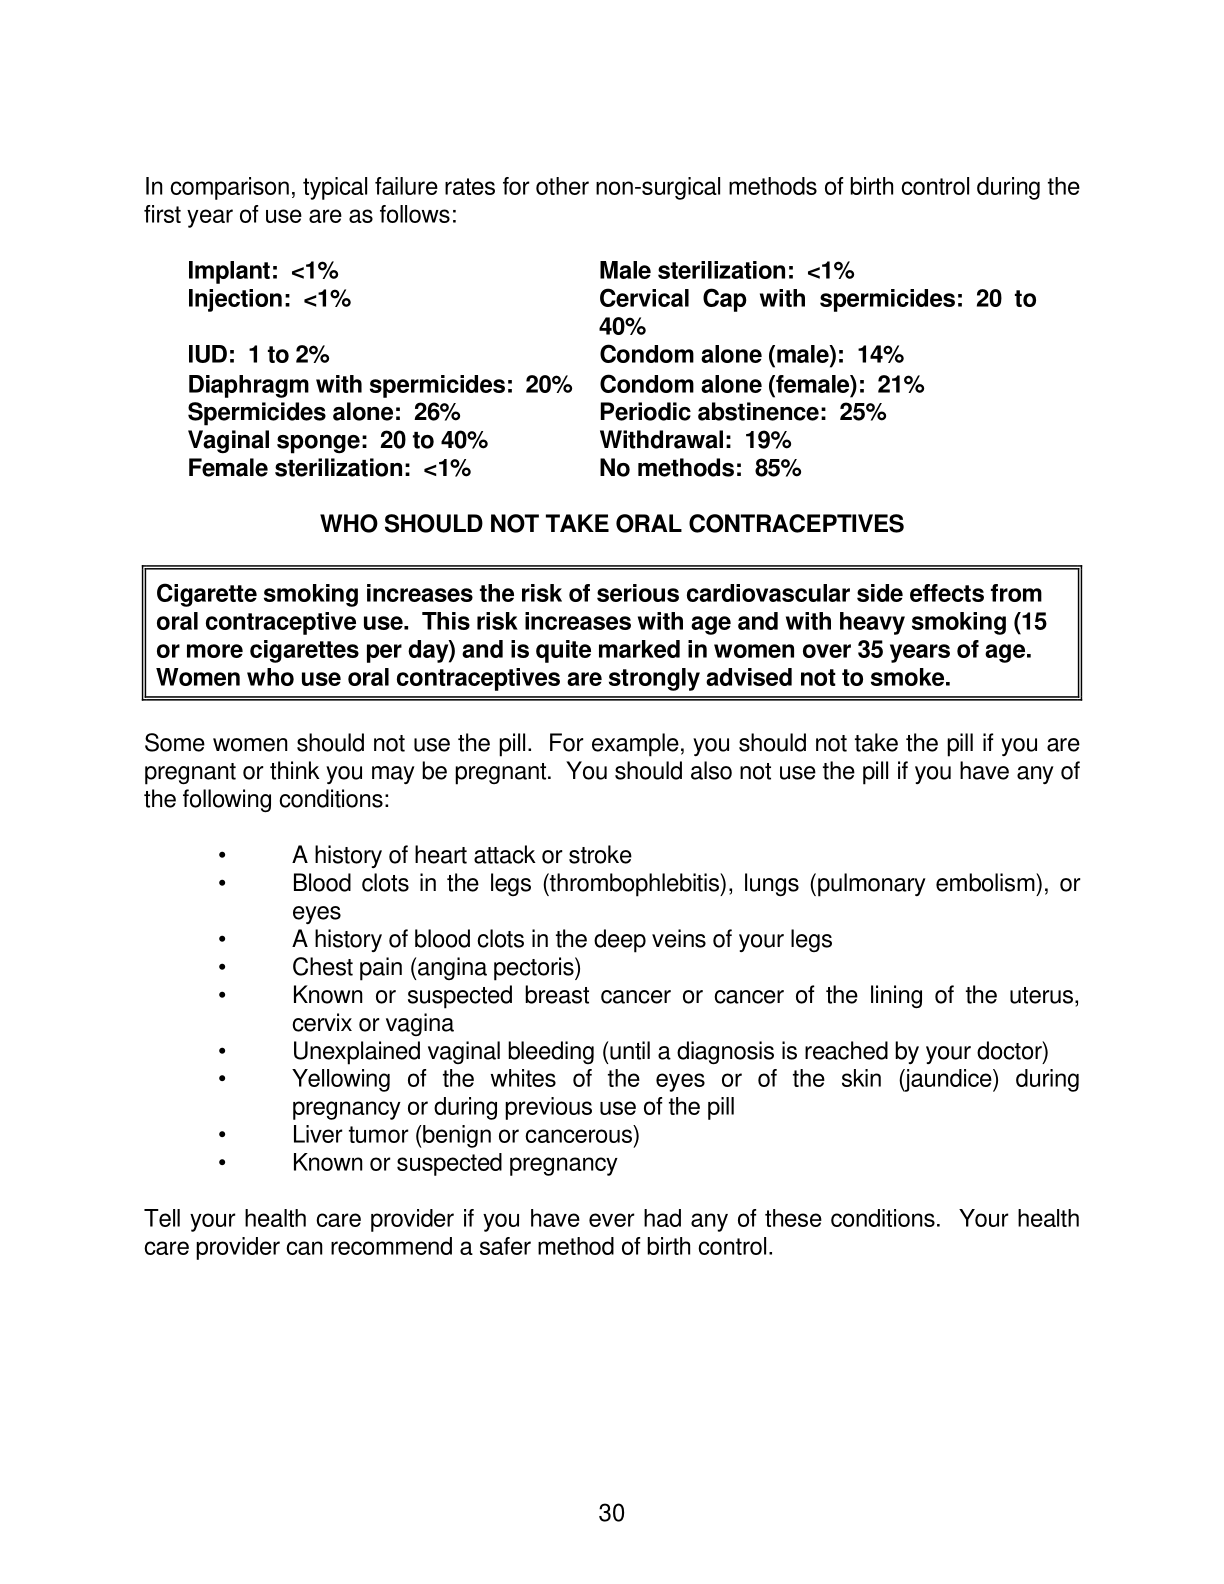nolines: (183, 255, 1038, 482)
